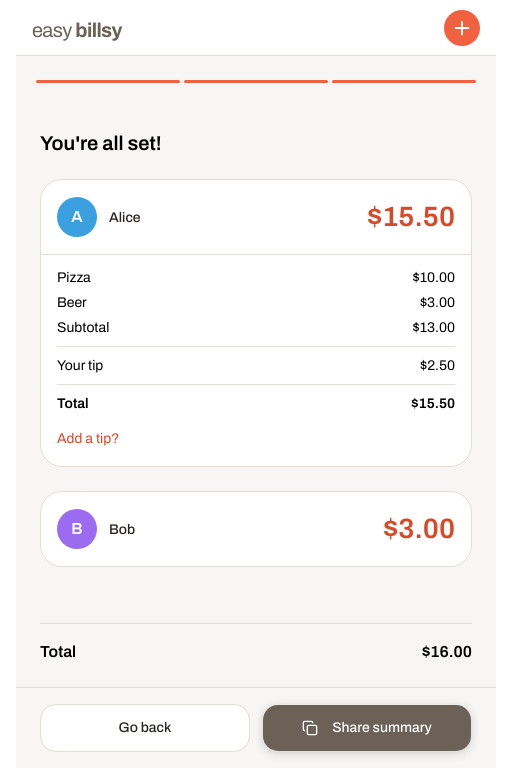
Test: PersonResultsScreen › Test 11 (copy feedback): button shows Copied! after copy
Click the button with aria-label "Copy summary to clipboard" at {"x": 367, "y": 728}, box x1=262 y1=704 x2=472 y2=752
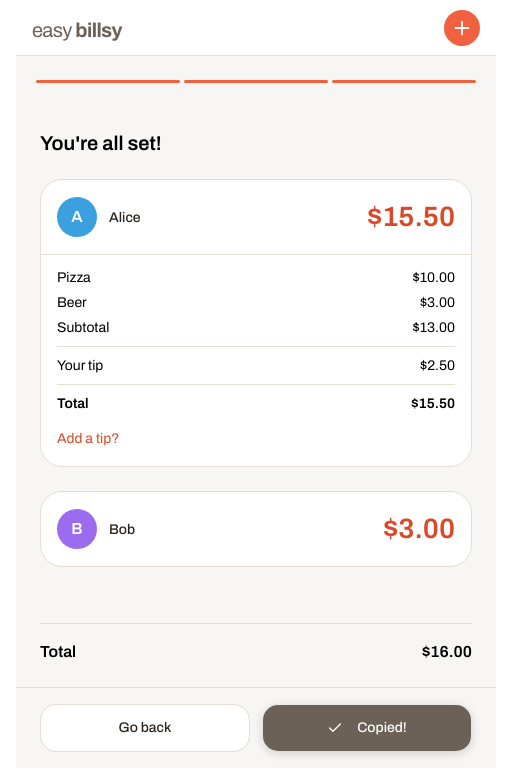
expect the button with aria-label "Summary copied" is shown: met, box x1=262 y1=704 x2=472 y2=752
